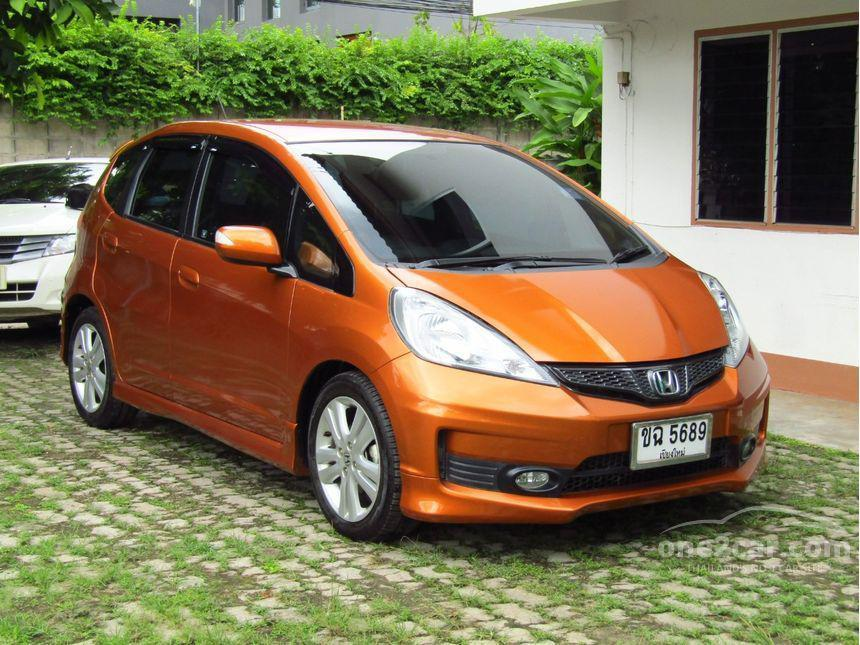Hatchback: (48, 102, 786, 546)
